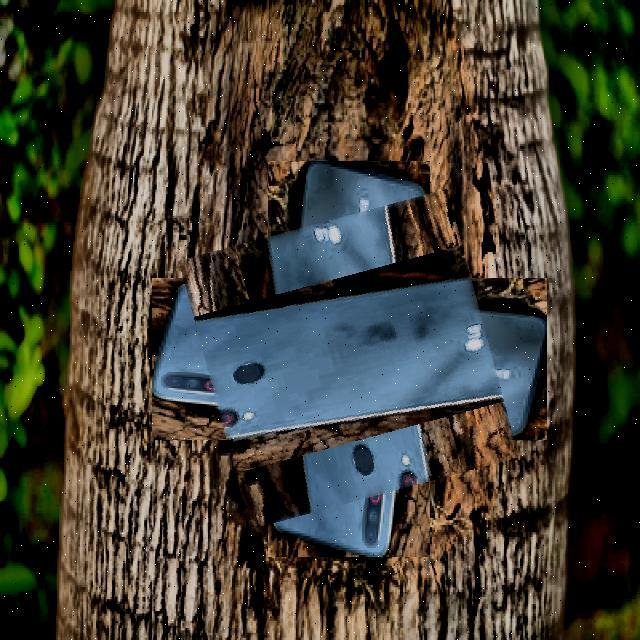Phone: (194, 204, 503, 514)
